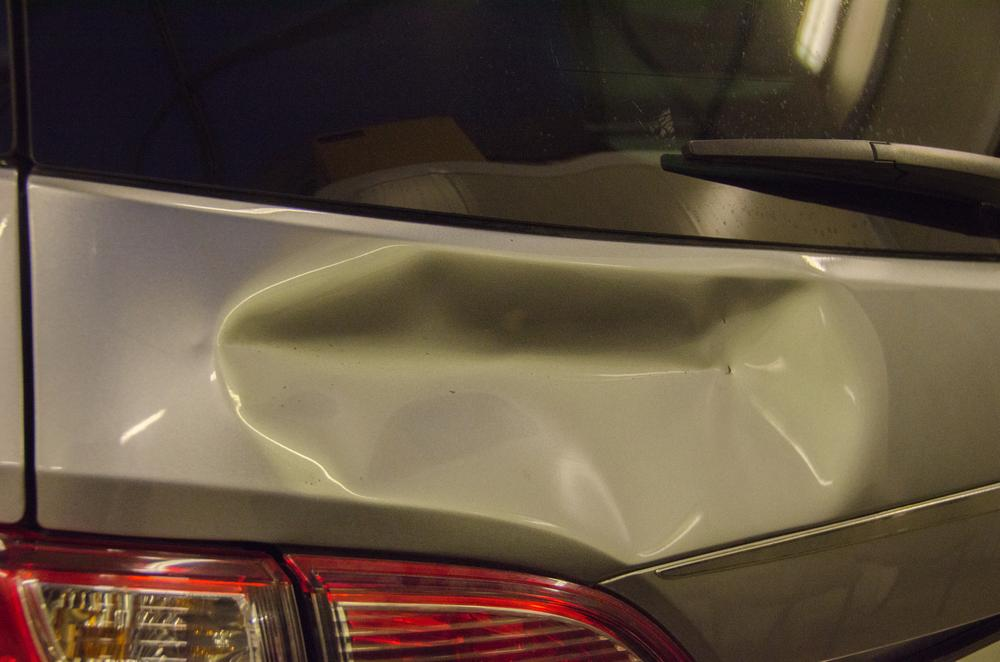dent: (220, 244, 858, 564)
